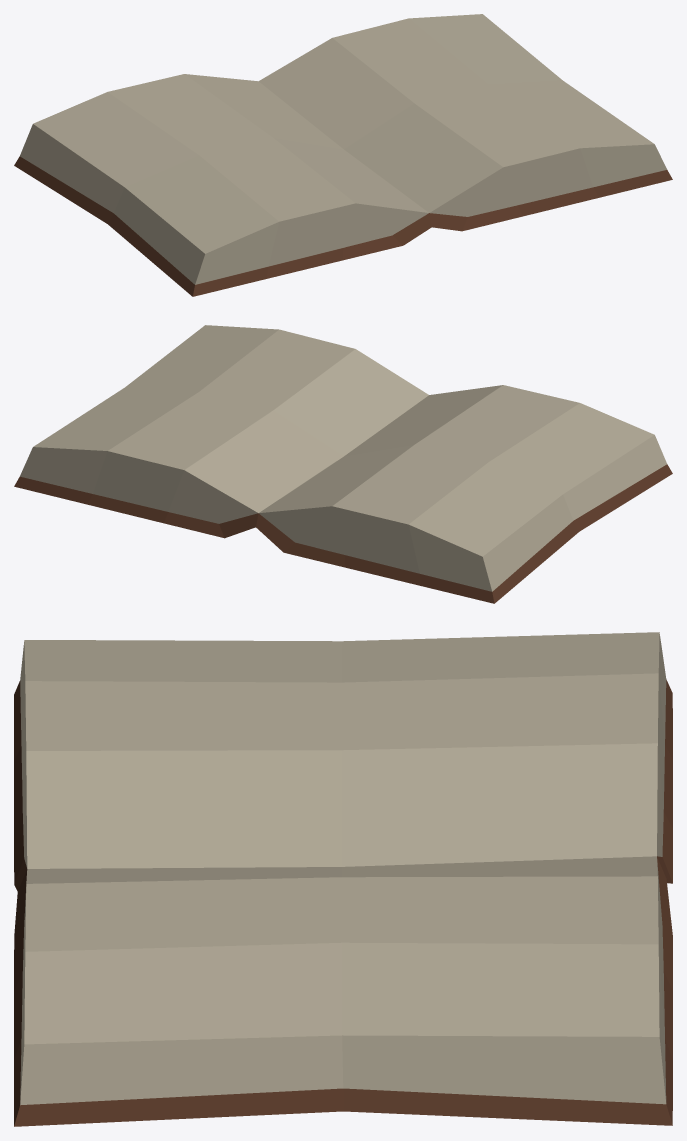
Rendered from Book_Open.gltf.
3 views of the same model, one above another, from view 1: azimuth 30°, elevation 25°; view 2: azimuth 150°, elevation 25°; view 3: azimuth 270°, elevation 25° (orthographic). The views are drawn at different scales.
Parts seen in each view (by area): view 1: Book_Open2; view 2: Book_Open2; view 3: Book_Open2.
Part boxes in pixels (x1=…): Book_Open2: x1=14, y1=14, x2=672, y2=296; Book_Open2: x1=14, y1=325, x2=672, y2=603; Book_Open2: x1=14, y1=632, x2=672, y2=1126.
Size of the model in its own units: 0.1618 by 0.0178 by 0.1042.
Materials: 1 (1 with a texture image).
